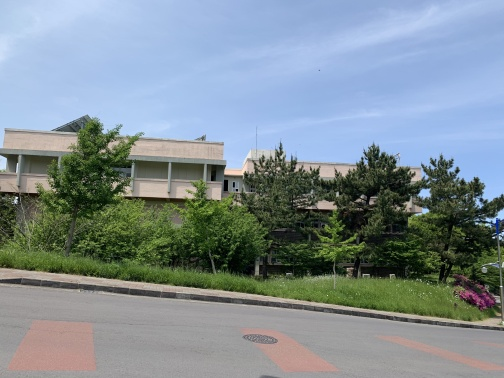College Of Education: (3, 109, 425, 291)
